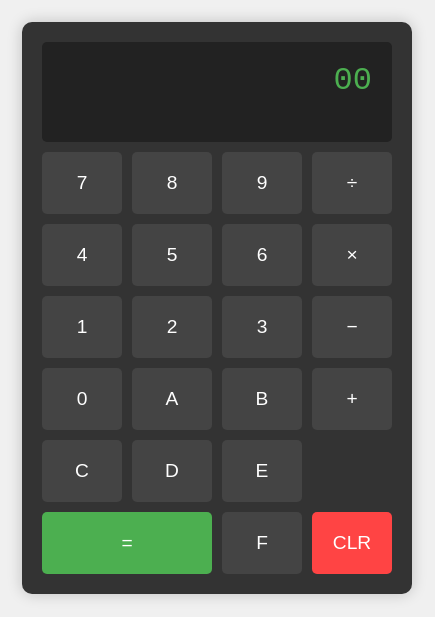
Calculator GUI Tests › Performs addition of two hex numbers
Click the button with test id "button-1".
click(82, 327)  # box [42, 296, 122, 358]
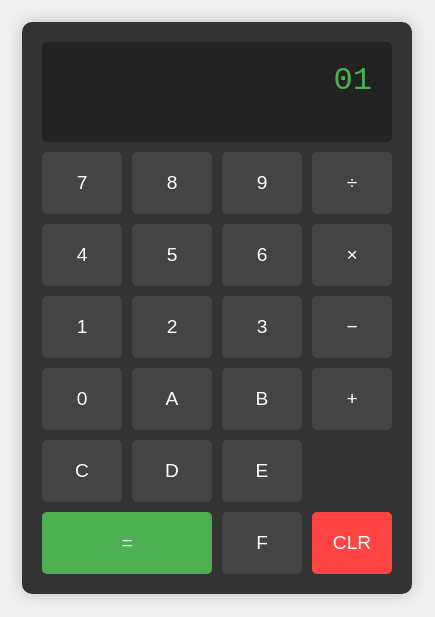
Click the button with test id "button-plus".
click(352, 399)  # box [312, 368, 392, 430]
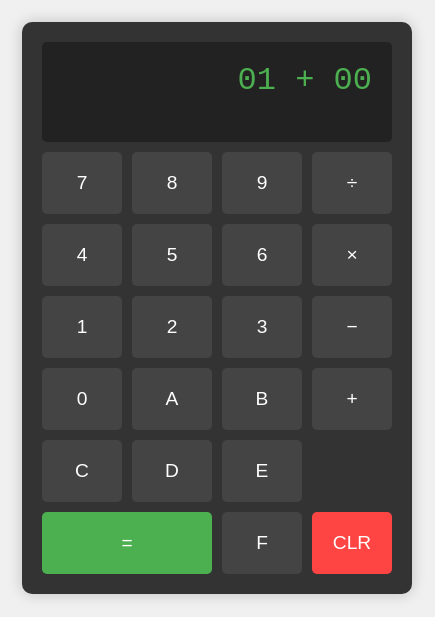
Check: the text with class "display" reads "01 + 00", box [42, 42, 392, 142]
Click the button with test id "button-1".
click(82, 327)  # box [42, 296, 122, 358]
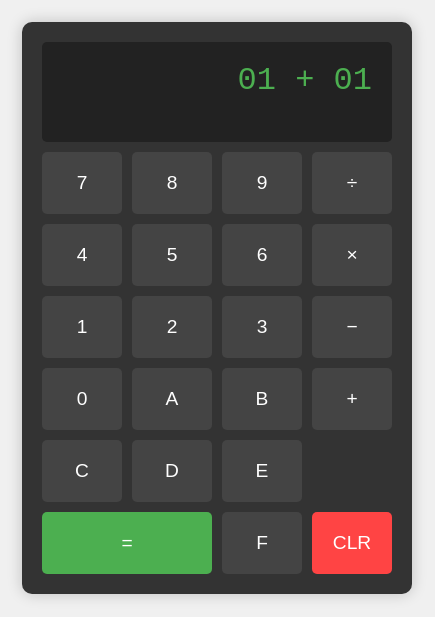
Check: the text with class "display" reads "01 + 01", box [42, 42, 392, 142]
Click the button with test id "button-equals".
click(127, 543)  # box [42, 512, 212, 574]
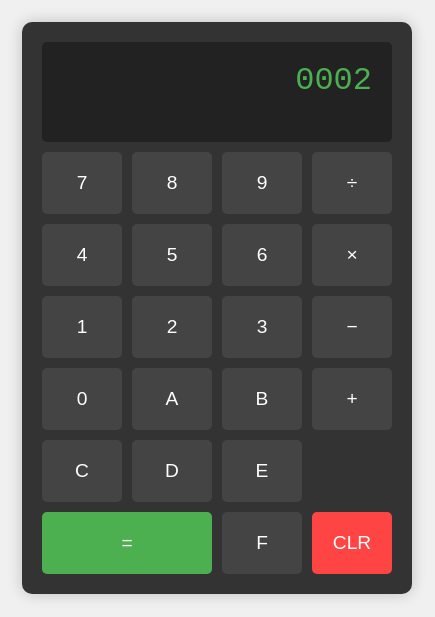
Check: the text with class "display" reads "0002", box [42, 42, 392, 142]
